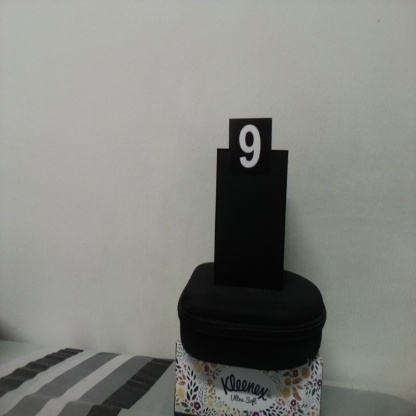id_9: (230, 120, 272, 182)
